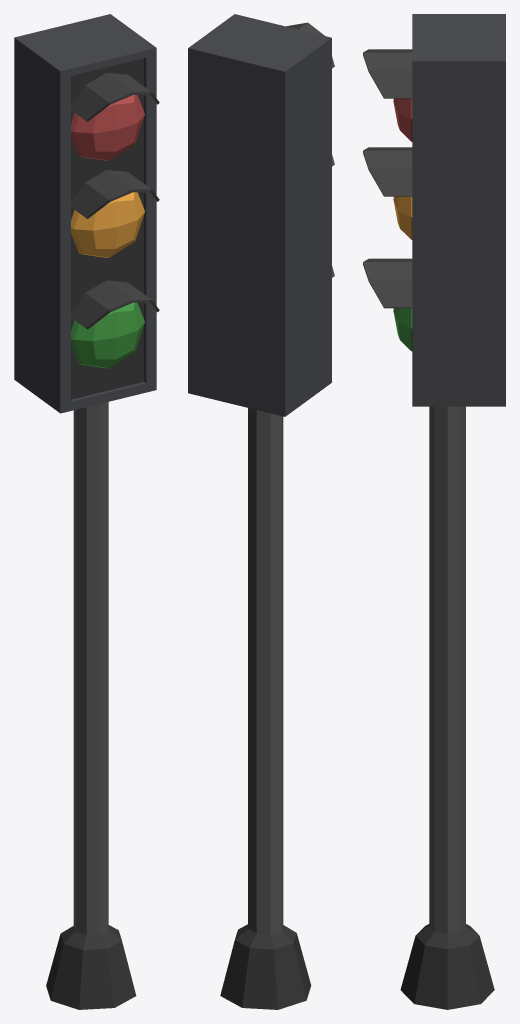
The model's file is trafficlamp01.fbx.
3 views of the same model, side by side, from view 1: azimuth 30°, elevation 25°; view 2: azimuth 150°, elevation 25°; view 3: azimuth 270°, elevation 25° (orthographic).
Visible parts, largest first — view 1: Cube; view 2: Cube; view 3: Cube.
Boxes of the visible parts, x1,y1,x2,y2 form: Cube: [14, 14, 159, 1009]; Cube: [188, 14, 334, 1009]; Cube: [363, 14, 505, 1009].
Bounding box in the file's own units: 76.74 × 719 × 97.72.
